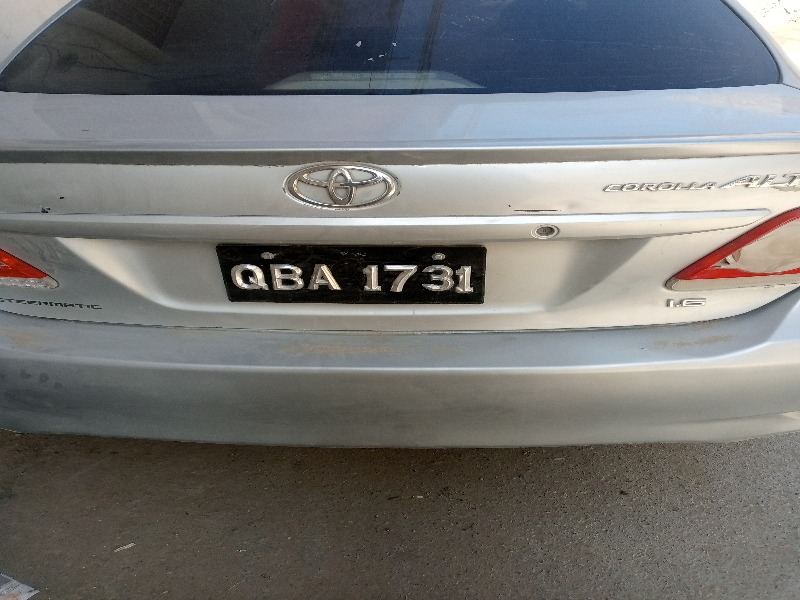License Plate: (210, 237, 495, 312)
